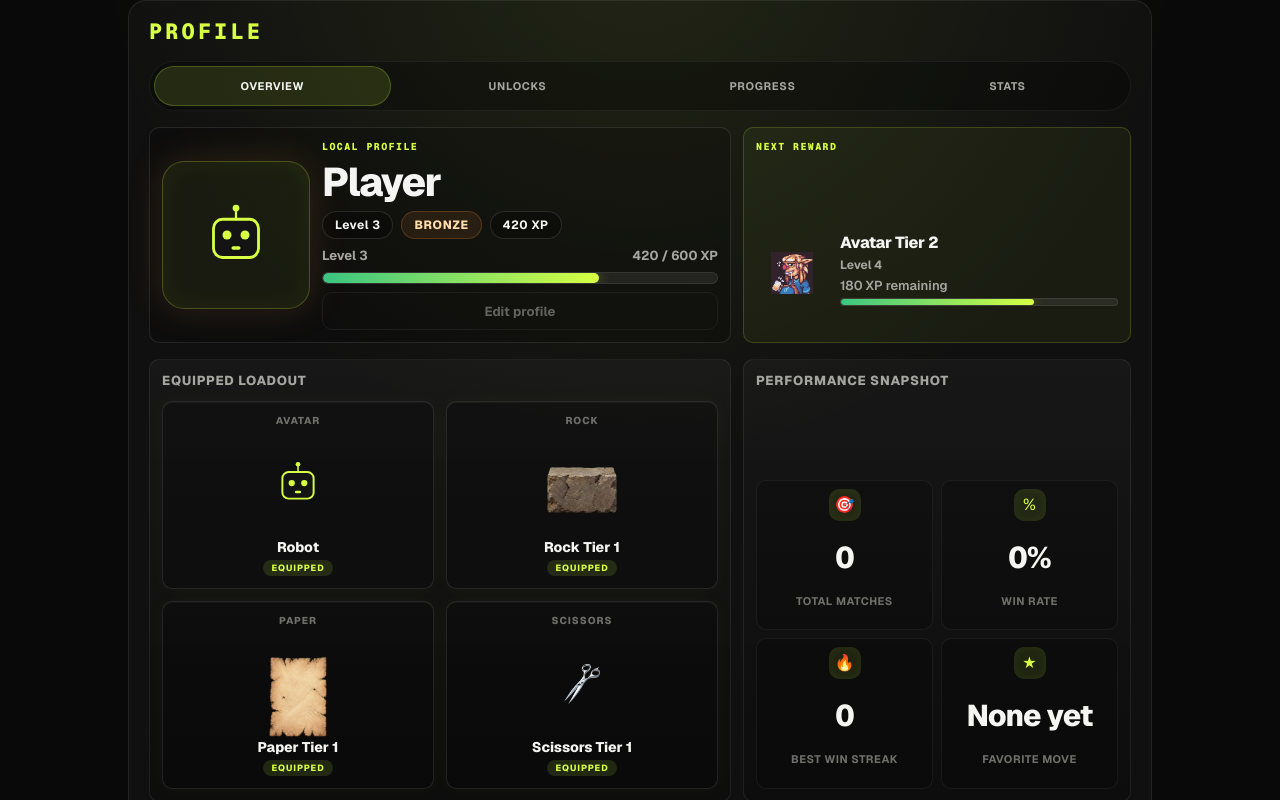
ProfilePageContent › reuses the shared practice stats panel in stats tab
The width and height of the screenshot is (1280, 800).
Click the tab "Stats": (1008, 86) 889,66 -> 1126,106
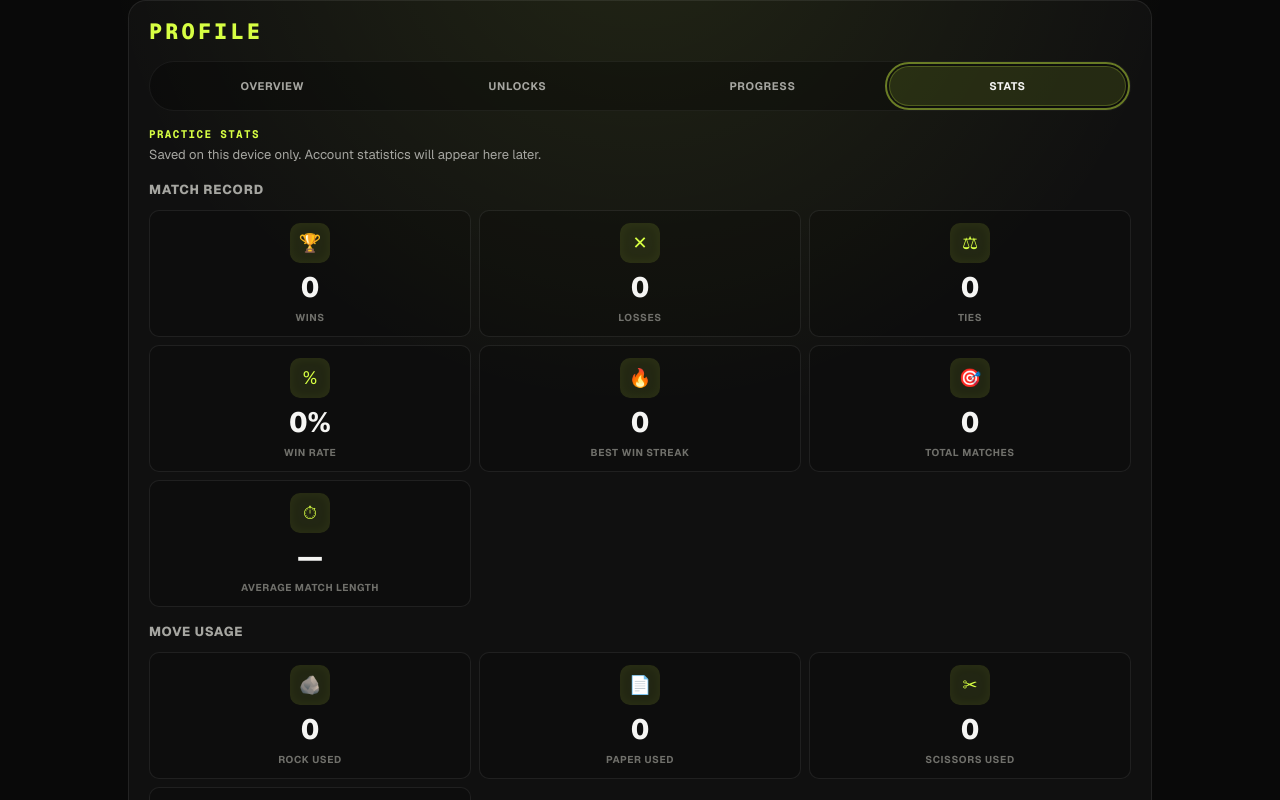
Check: the text "Practice stats" is shown, box 149,127 -> 260,141
Check: the heading "Match record" is shown, box 149,180 -> 264,198
Check: the heading "Move usage" is shown, box 149,622 -> 243,640
